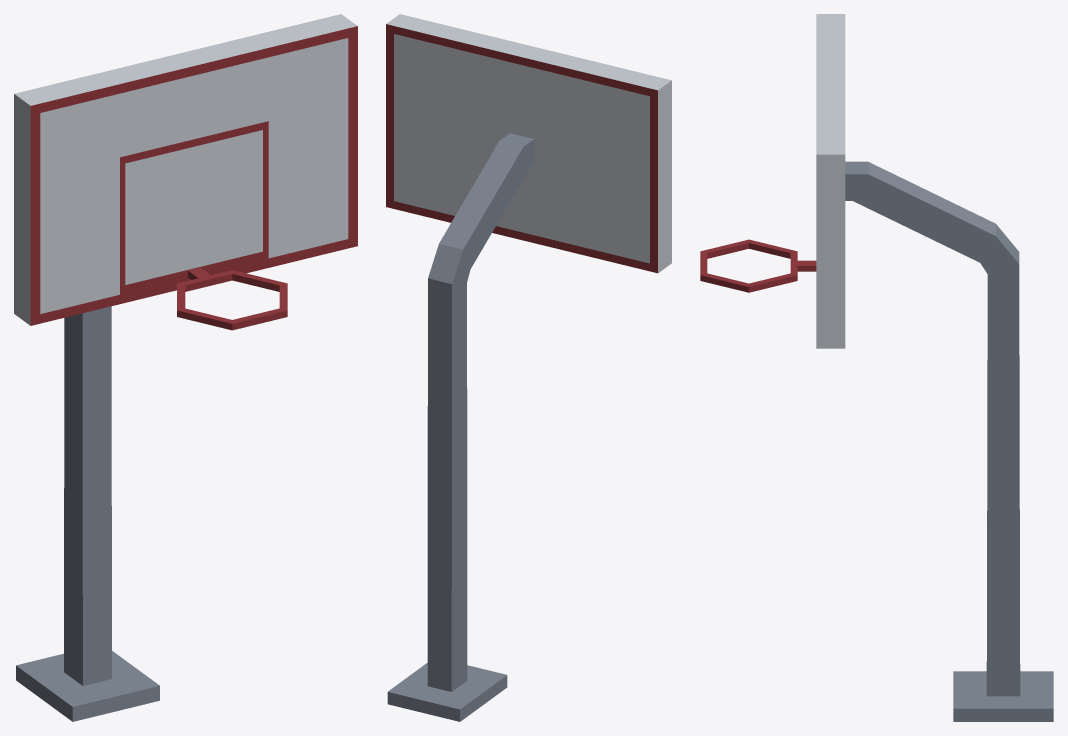
Rendered from Building_Objects_Basketball_Hoop.fbx.
3 views of the same model, side by side, from view 1: azimuth 30°, elevation 25°; view 2: azimuth 150°, elevation 25°; view 3: azimuth 270°, elevation 25° (orthographic). The views are drawn at different scales.
Parts seen in each view (by area): view 1: Building_Objects_Basketball_Hoop; view 2: Building_Objects_Basketball_Hoop; view 3: Building_Objects_Basketball_Hoop.
Boxes of the visible parts, left/top/right/bottom form: Building_Objects_Basketball_Hoop: left=14, top=14, right=357, bottom=721; Building_Objects_Basketball_Hoop: left=386, top=14, right=671, bottom=721; Building_Objects_Basketball_Hoop: left=700, top=14, right=1053, bottom=721.
Bounding box in the file's own units: 179 × 367 × 190.
